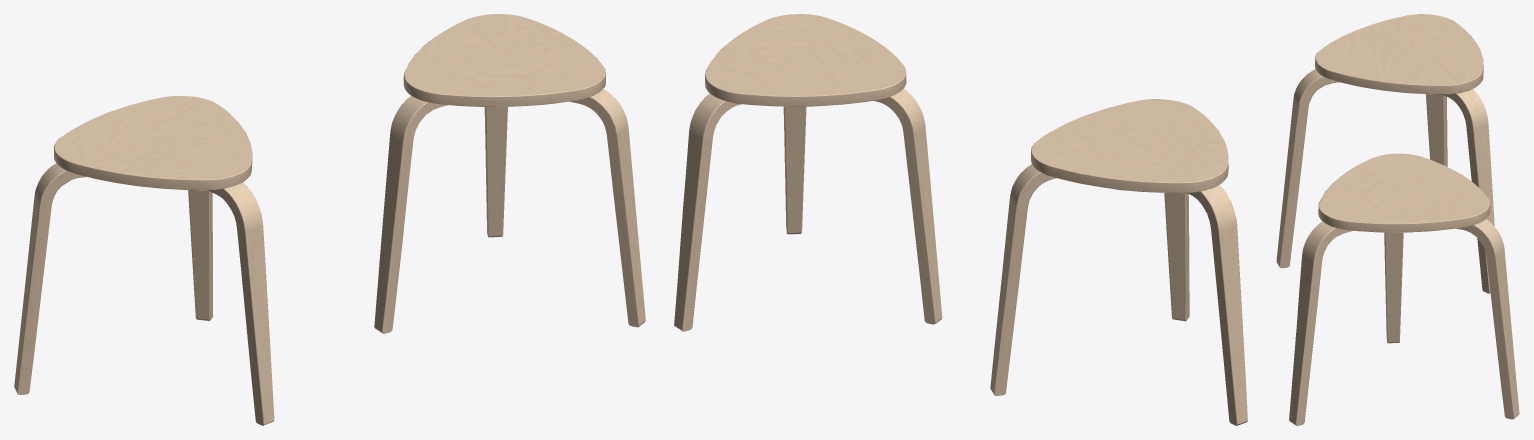
Rendered from 02 - KYRRE - 椅凳 2件組, 樺木 IKEA 線上購物.glb.
The picture shows the model from 3 angles, left to right: view 1: azimuth 30°, elevation 25°; view 2: azimuth 150°, elevation 25°; view 3: azimuth 270°, elevation 25°; orthographic projection. The views are drawn at different scales.
Parts seen in each view (by area): view 1: 59399804; view 2: 59399804; view 3: 59399804.
Part boxes in pixels (bbox=[...]): 59399804: bbox=[14, 14, 645, 425]; 59399804: bbox=[674, 14, 1247, 425]; 59399804: bbox=[1276, 14, 1519, 425].
Bounding box in the file's own units: 1.09 × 0.4519 × 0.4956.
Materials: 1 (1 with a texture image).
